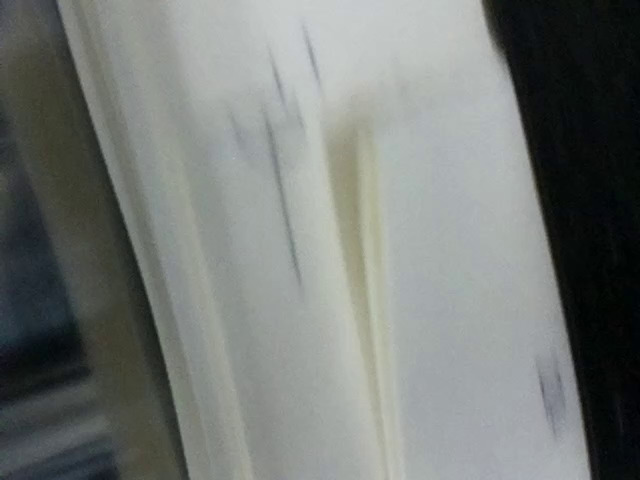not_sure: (201, 52, 314, 178)
